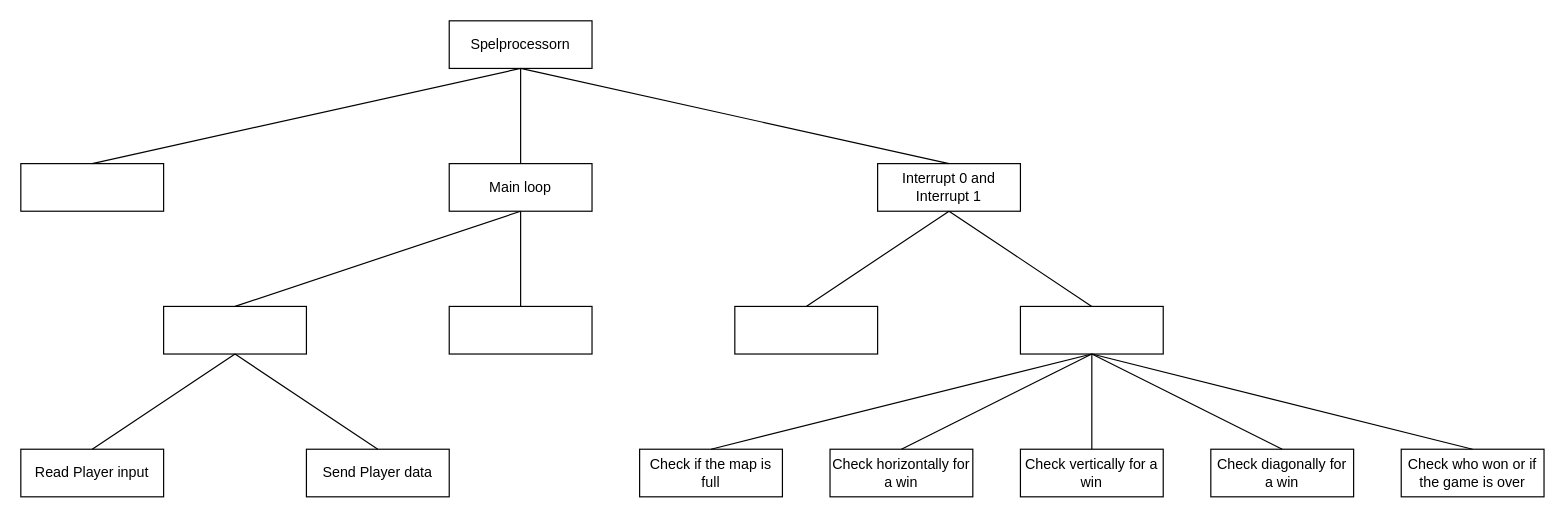
Some shapes in this 1565 by 518 pixel diagram are drawn without their labels. The shapes that lost their labels are listed below. From the top down, each one's centre as x and y in pixels, then its label:
At (x=92, y=186): "Init".
At (x=234, y=329): "Player Input".
At (x=520, y=329): "Delay".
At (x=806, y=329): "Check for valid position.".
At (x=1091, y=329): "Check for win".
